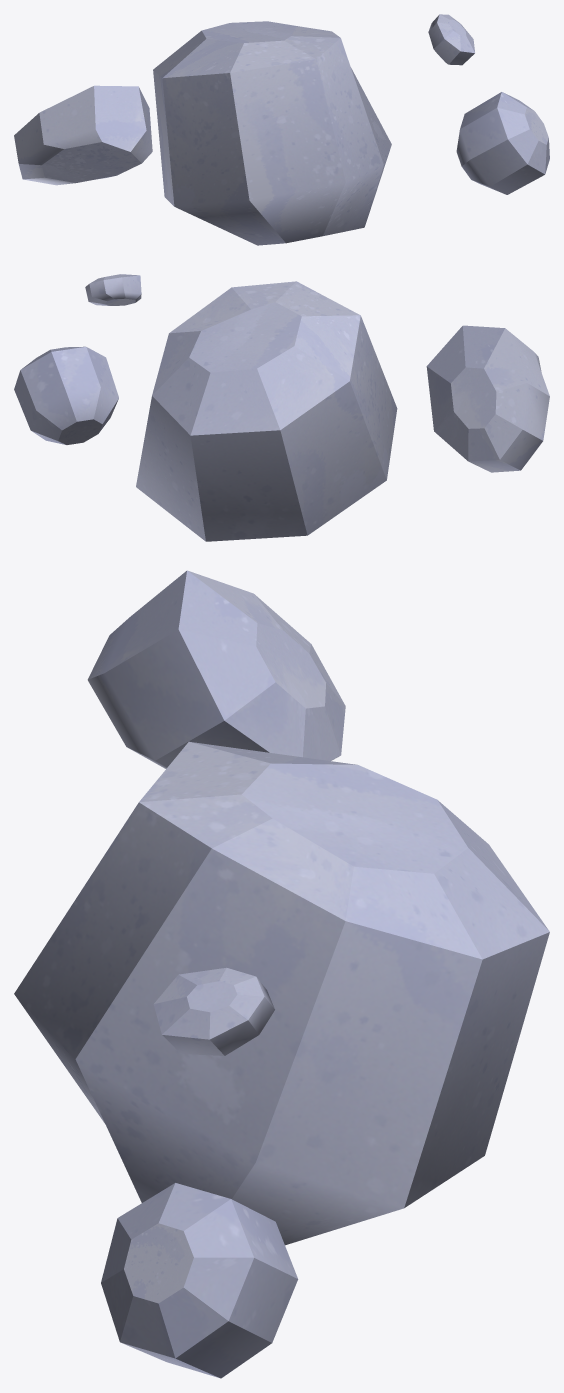
The model's file is SM_rockCluster1.fbx.
3 views of the same model, one above another, from view 1: azimuth 30°, elevation 25°; view 2: azimuth 150°, elevation 25°; view 3: azimuth 270°, elevation 25° (orthographic). The views are drawn at different scales.
Visible parts, largest first — view 1: rockCluster1; view 2: rockCluster1; view 3: rockCluster1.
Part boxes in pixels (x1,y1,x2,y2): rockCluster1: (14, 14, 549, 245); rockCluster1: (14, 274, 549, 541); rockCluster1: (14, 570, 549, 1378).
Size of the model in its own units: 18.45 by 7.61 by 8.56.
